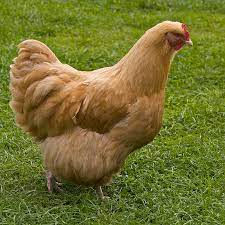buff: (139, 16, 208, 61)
